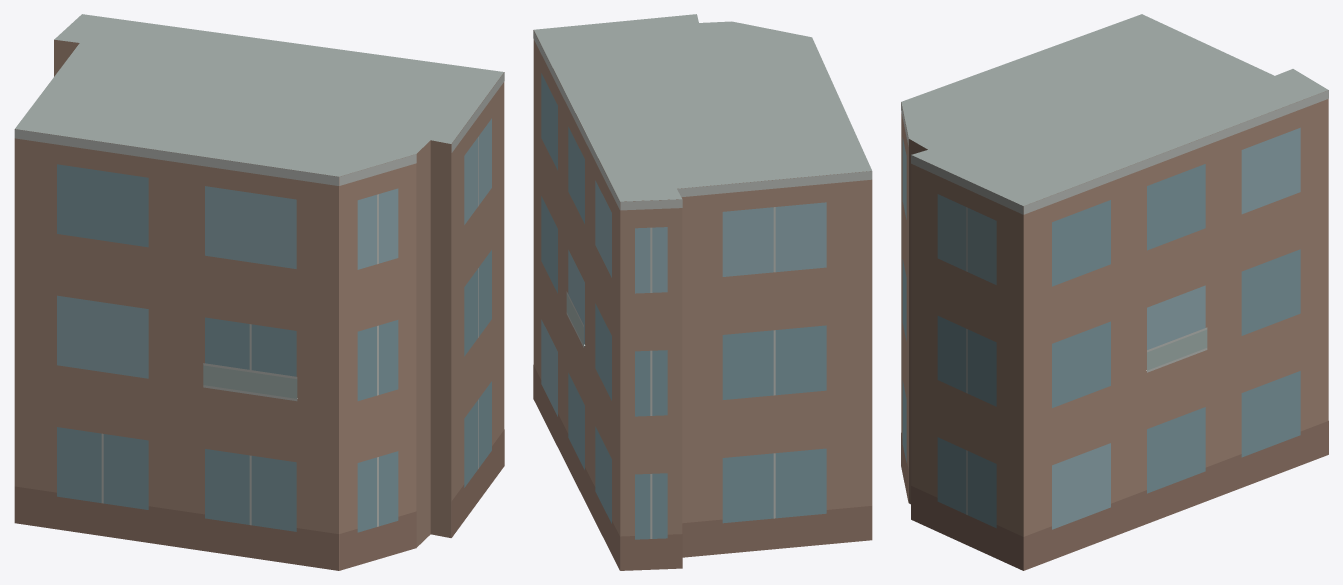
The model's file is survey-upis-32963893.glb.
The picture shows the model from 3 angles, left to right: view 1: azimuth 30°, elevation 25°; view 2: azimuth 150°, elevation 25°; view 3: azimuth 270°, elevation 25°; orthographic projection. The views are drawn at different scales.
Parts seen in each view (by area): view 1: survey-upis-32963893.tmp; view 2: survey-upis-32963893.tmp; view 3: survey-upis-32963893.tmp.
Boxes of the visible parts, <box> form: survey-upis-32963893.tmp: <box>14,14,504,570</box>; survey-upis-32963893.tmp: <box>533,14,872,570</box>; survey-upis-32963893.tmp: <box>901,14,1328,570</box>.
Size of the model in its own units: 11.53 by 10.2 by 10.84.
